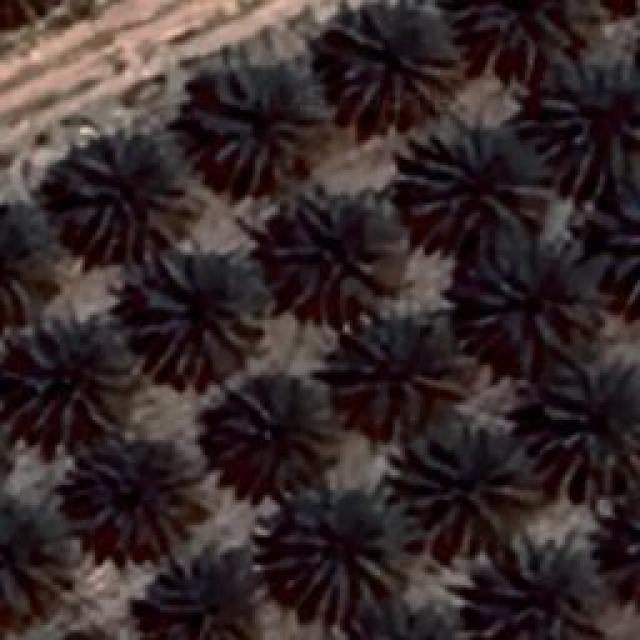PalmTree: (64, 118, 622, 240), (400, 115, 550, 243), (390, 425, 542, 550), (262, 480, 400, 615), (62, 132, 200, 258), (130, 250, 260, 380), (190, 65, 320, 190), (465, 238, 605, 352), (330, 2, 460, 116), (208, 380, 342, 490), (532, 350, 638, 488), (18, 310, 132, 432), (32, 131, 64, 559), (475, 530, 603, 635), (267, 205, 385, 313), (72, 438, 198, 538), (540, 72, 640, 196), (456, 0, 594, 78), (128, 555, 252, 640), (344, 324, 456, 416), (0, 198, 50, 322), (348, 602, 476, 640), (617, 483, 640, 600), (622, 482, 640, 600), (0, 0, 59, 28)
